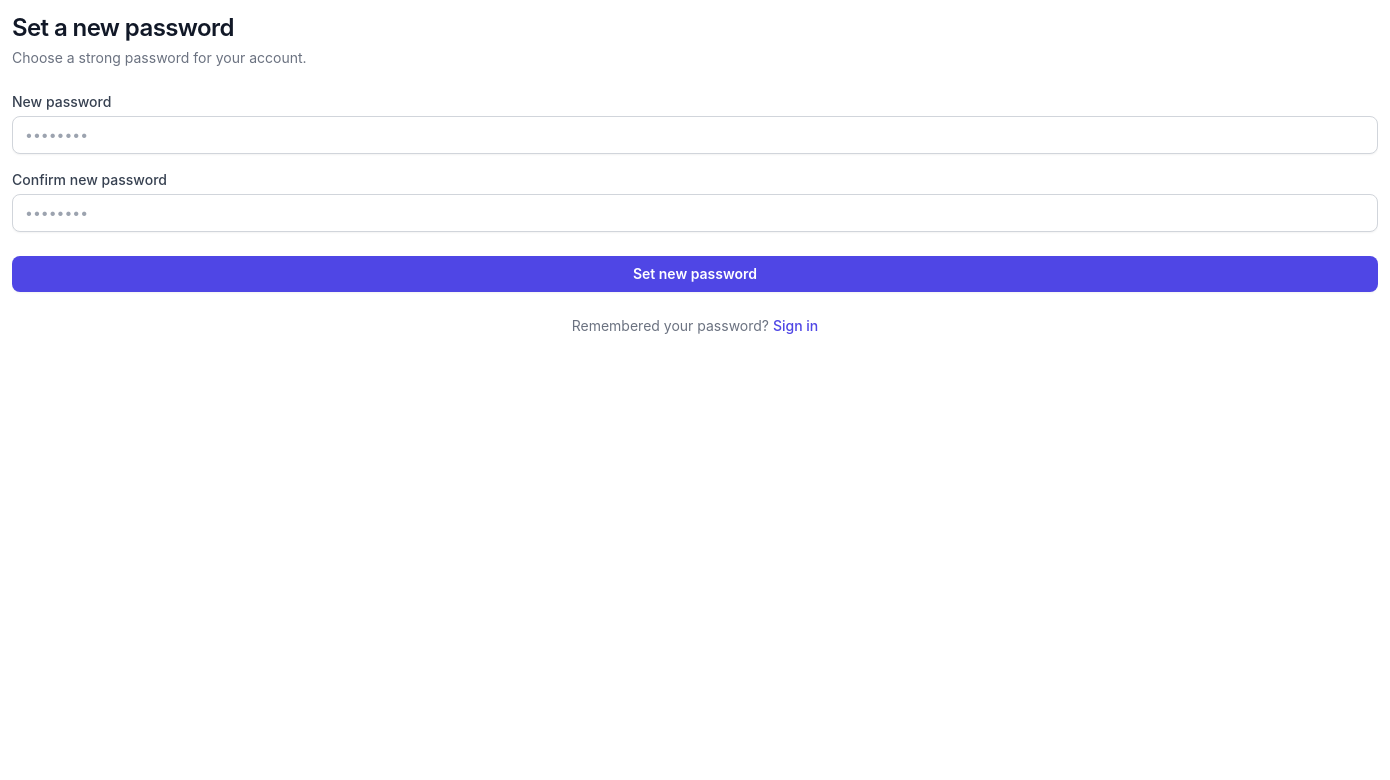
Scenario: ResetPasswordPage › shows expired token error
Type "TestPass1!" into the password field labelled "New password" at (695, 135), box 12,116 -> 1378,154
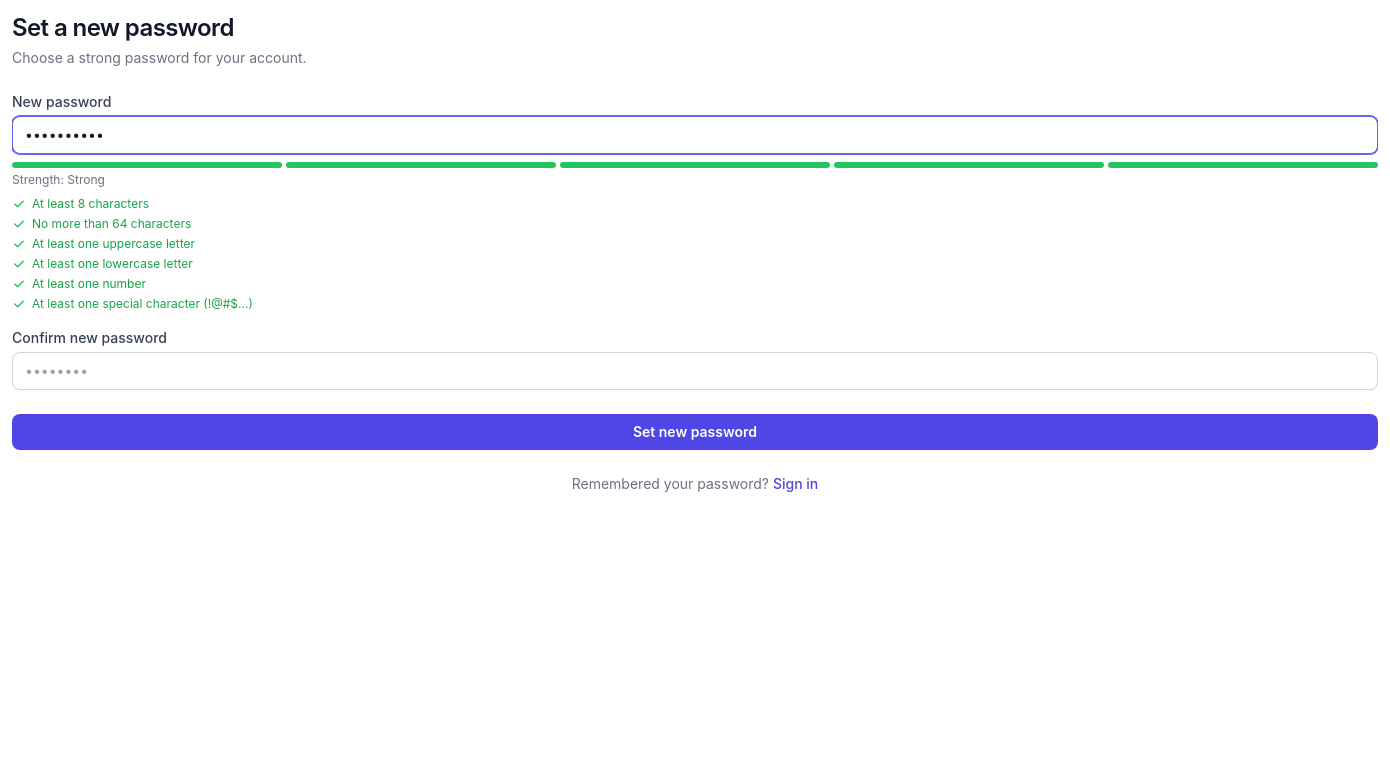
Type "TestPass1!" into the password field labelled "Confirm new password" at (695, 371), box 12,352 -> 1378,390
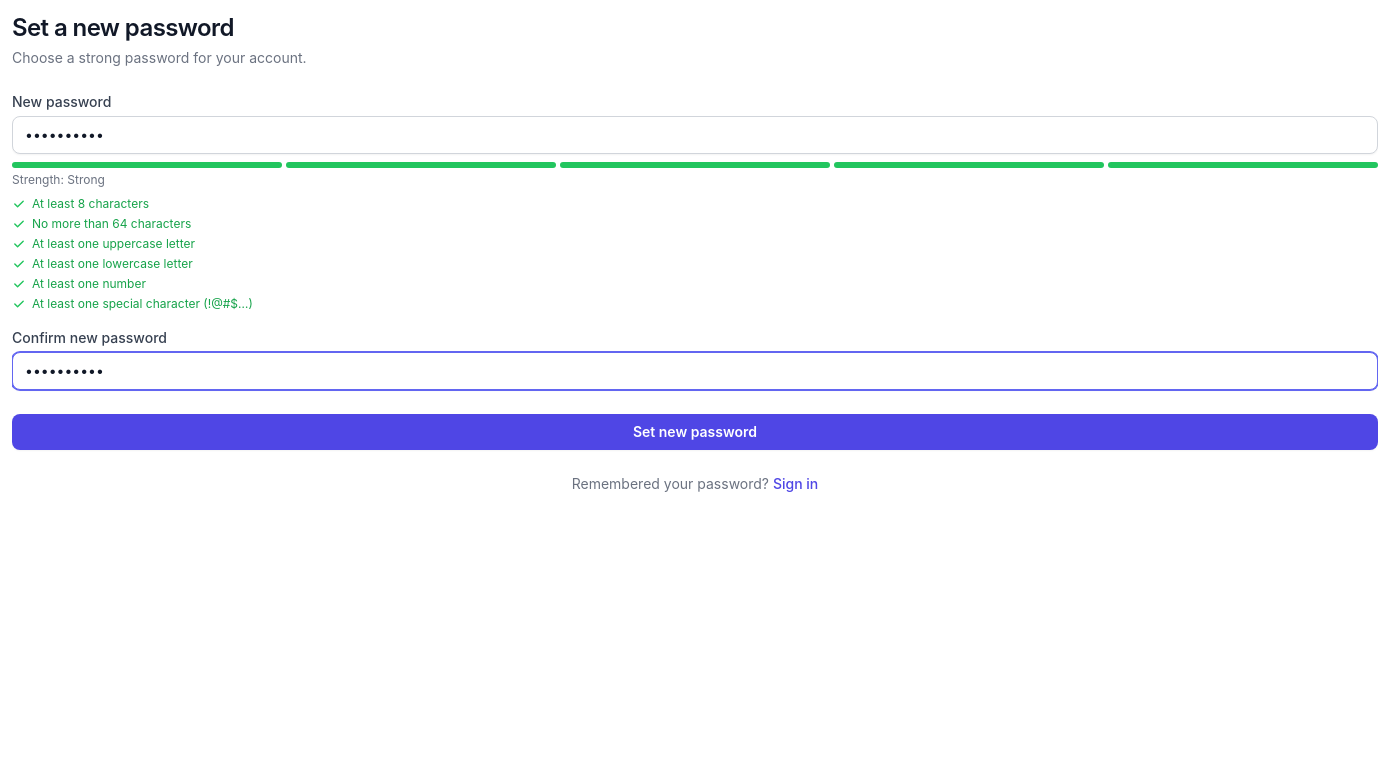
Click the button "Set new password" at (695, 432), box 12,414 -> 1378,450
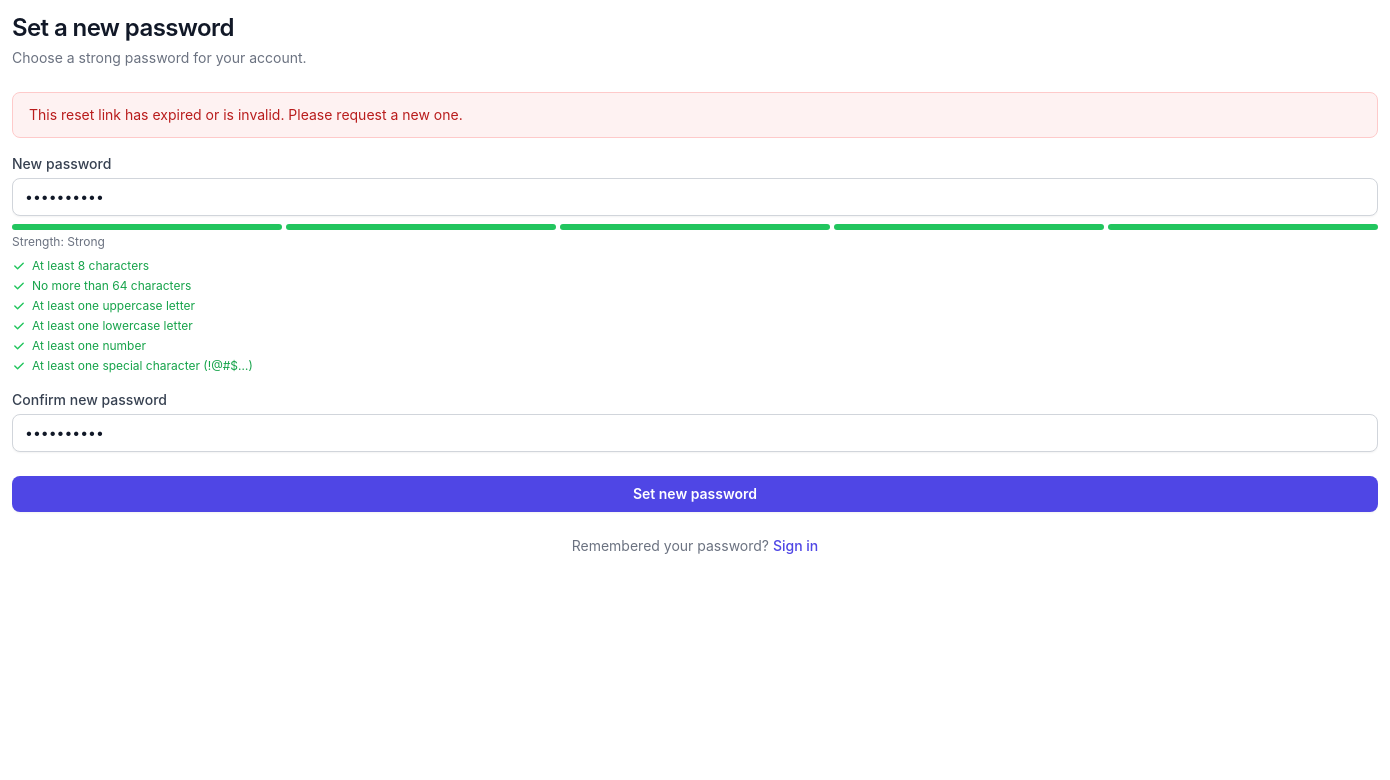
Check: the message shows "expired or is invalid", box 29,106 -> 463,123
